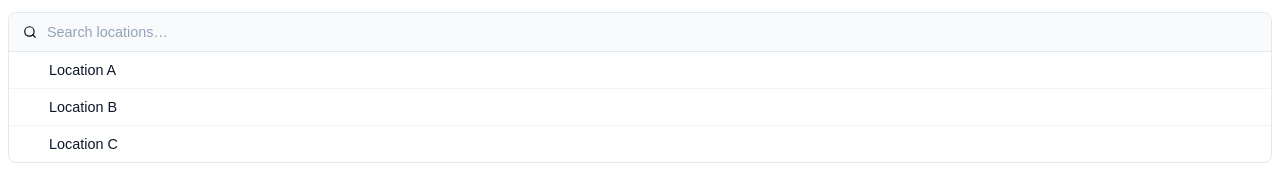
Test case: LocationPicker › shows a no-results message when search matches nothing
This screenshot has width=1280, height=180.
In the search field with test id "location-search": (651, 32) left=45, top=23, right=1257, bottom=41, type "zzz"
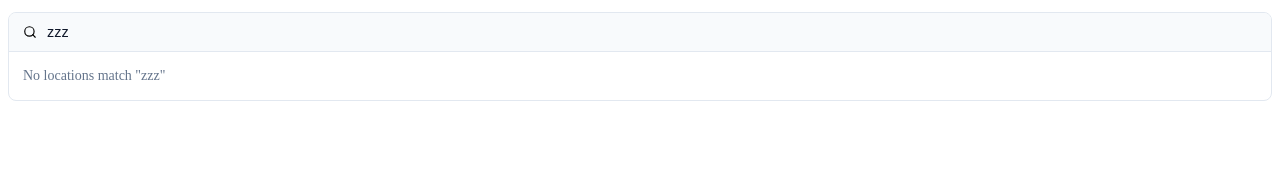
Result: the text "No locations match \"zzz\"" is shown at left=23, top=68, right=165, bottom=83
